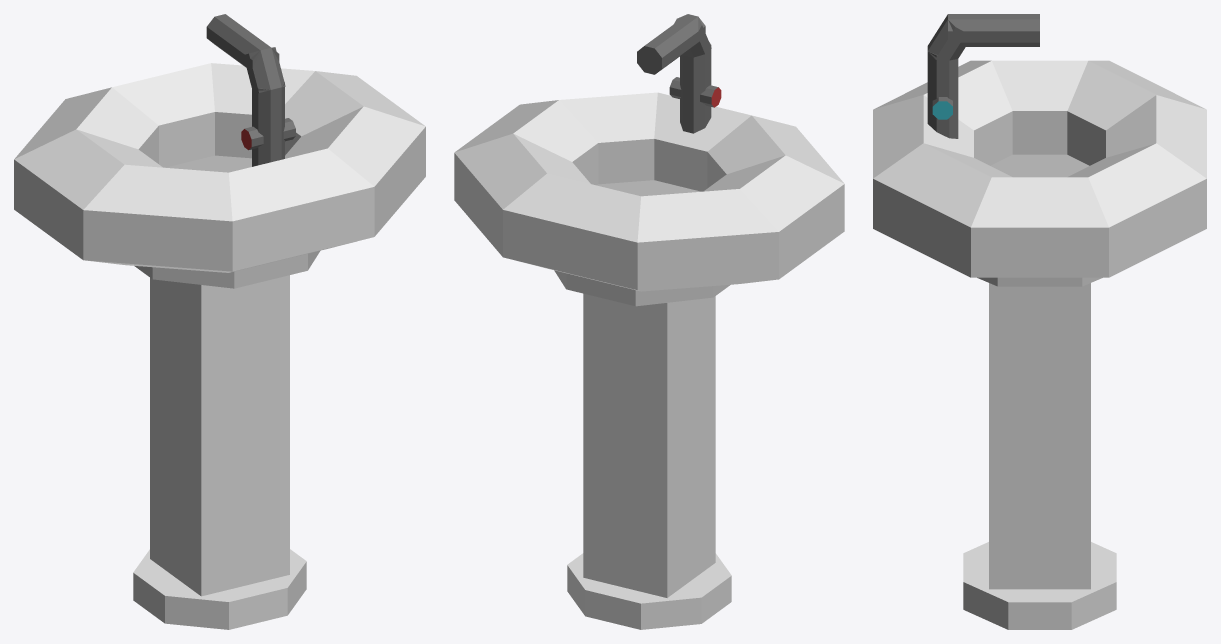
The model's file is bathoomsink.fbx.
3 views of the same model, side by side, from view 1: azimuth 30°, elevation 25°; view 2: azimuth 150°, elevation 25°; view 3: azimuth 270°, elevation 25° (orthographic). The views are drawn at different scales.
Parts seen in each view (by area): view 1: torus, cube, cylinder_5, cylinder, cylinder_1, cylinder_3, cylinder_2, cylinder_4; view 2: torus, cube, cylinder_5, cylinder, cylinder_1, cylinder_3, cylinder_4; view 3: torus, cube, cylinder_5, cylinder, cylinder_3, cylinder_1, cylinder_2.
Boxes of the visible parts, x1,y1,x2,y2 form: torus: [14, 63, 425, 272]; cube: [150, 275, 289, 596]; cylinder_5: [133, 549, 306, 629]; cylinder: [134, 155, 320, 288]; cylinder_1: [252, 82, 284, 166]; cylinder_3: [206, 14, 279, 71]; cylinder_2: [244, 47, 285, 93]; cylinder_4: [241, 118, 295, 150]; torus: [454, 92, 844, 291]; cube: [583, 293, 715, 597]; cylinder_5: [567, 553, 731, 629]; cylinder: [554, 180, 730, 306]; cylinder_1: [680, 42, 711, 133]; cylinder_3: [637, 14, 705, 74]; cylinder_4: [669, 77, 721, 107]; torus: [873, 60, 1206, 277]; cube: [989, 283, 1090, 589]; cylinder_5: [963, 542, 1116, 629]; cylinder: [977, 154, 1102, 286]; cylinder_3: [948, 14, 1039, 46]; cylinder_1: [927, 51, 958, 138]; cylinder_2: [927, 14, 966, 60].
Bounding box in the file's own units: 48.33 × 78.08 × 40.83.
Materials: 1 (1 with a texture image).
